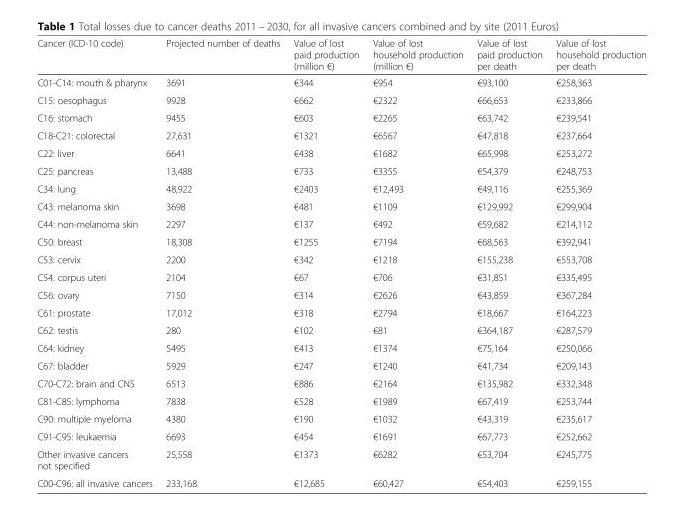table: (36, 37, 645, 488)
table column: (158, 37, 286, 488), (36, 37, 158, 488), (365, 37, 469, 488), (548, 37, 645, 488), (286, 37, 365, 488), (469, 37, 548, 488)
table column header: (36, 37, 645, 73)
table row: (36, 37, 645, 73), (36, 444, 645, 474), (36, 73, 645, 91), (36, 108, 645, 126), (36, 126, 645, 144), (36, 161, 645, 179), (36, 179, 645, 197), (36, 214, 645, 232), (36, 232, 645, 250), (36, 250, 645, 268), (36, 285, 645, 303), (36, 303, 645, 321), (36, 338, 645, 356), (36, 356, 645, 374), (36, 391, 645, 409), (36, 409, 645, 427), (36, 91, 645, 108), (36, 144, 645, 161), (36, 197, 645, 214), (36, 268, 645, 285), (36, 321, 645, 338), (36, 374, 645, 391), (36, 427, 645, 444), (36, 474, 645, 488)
